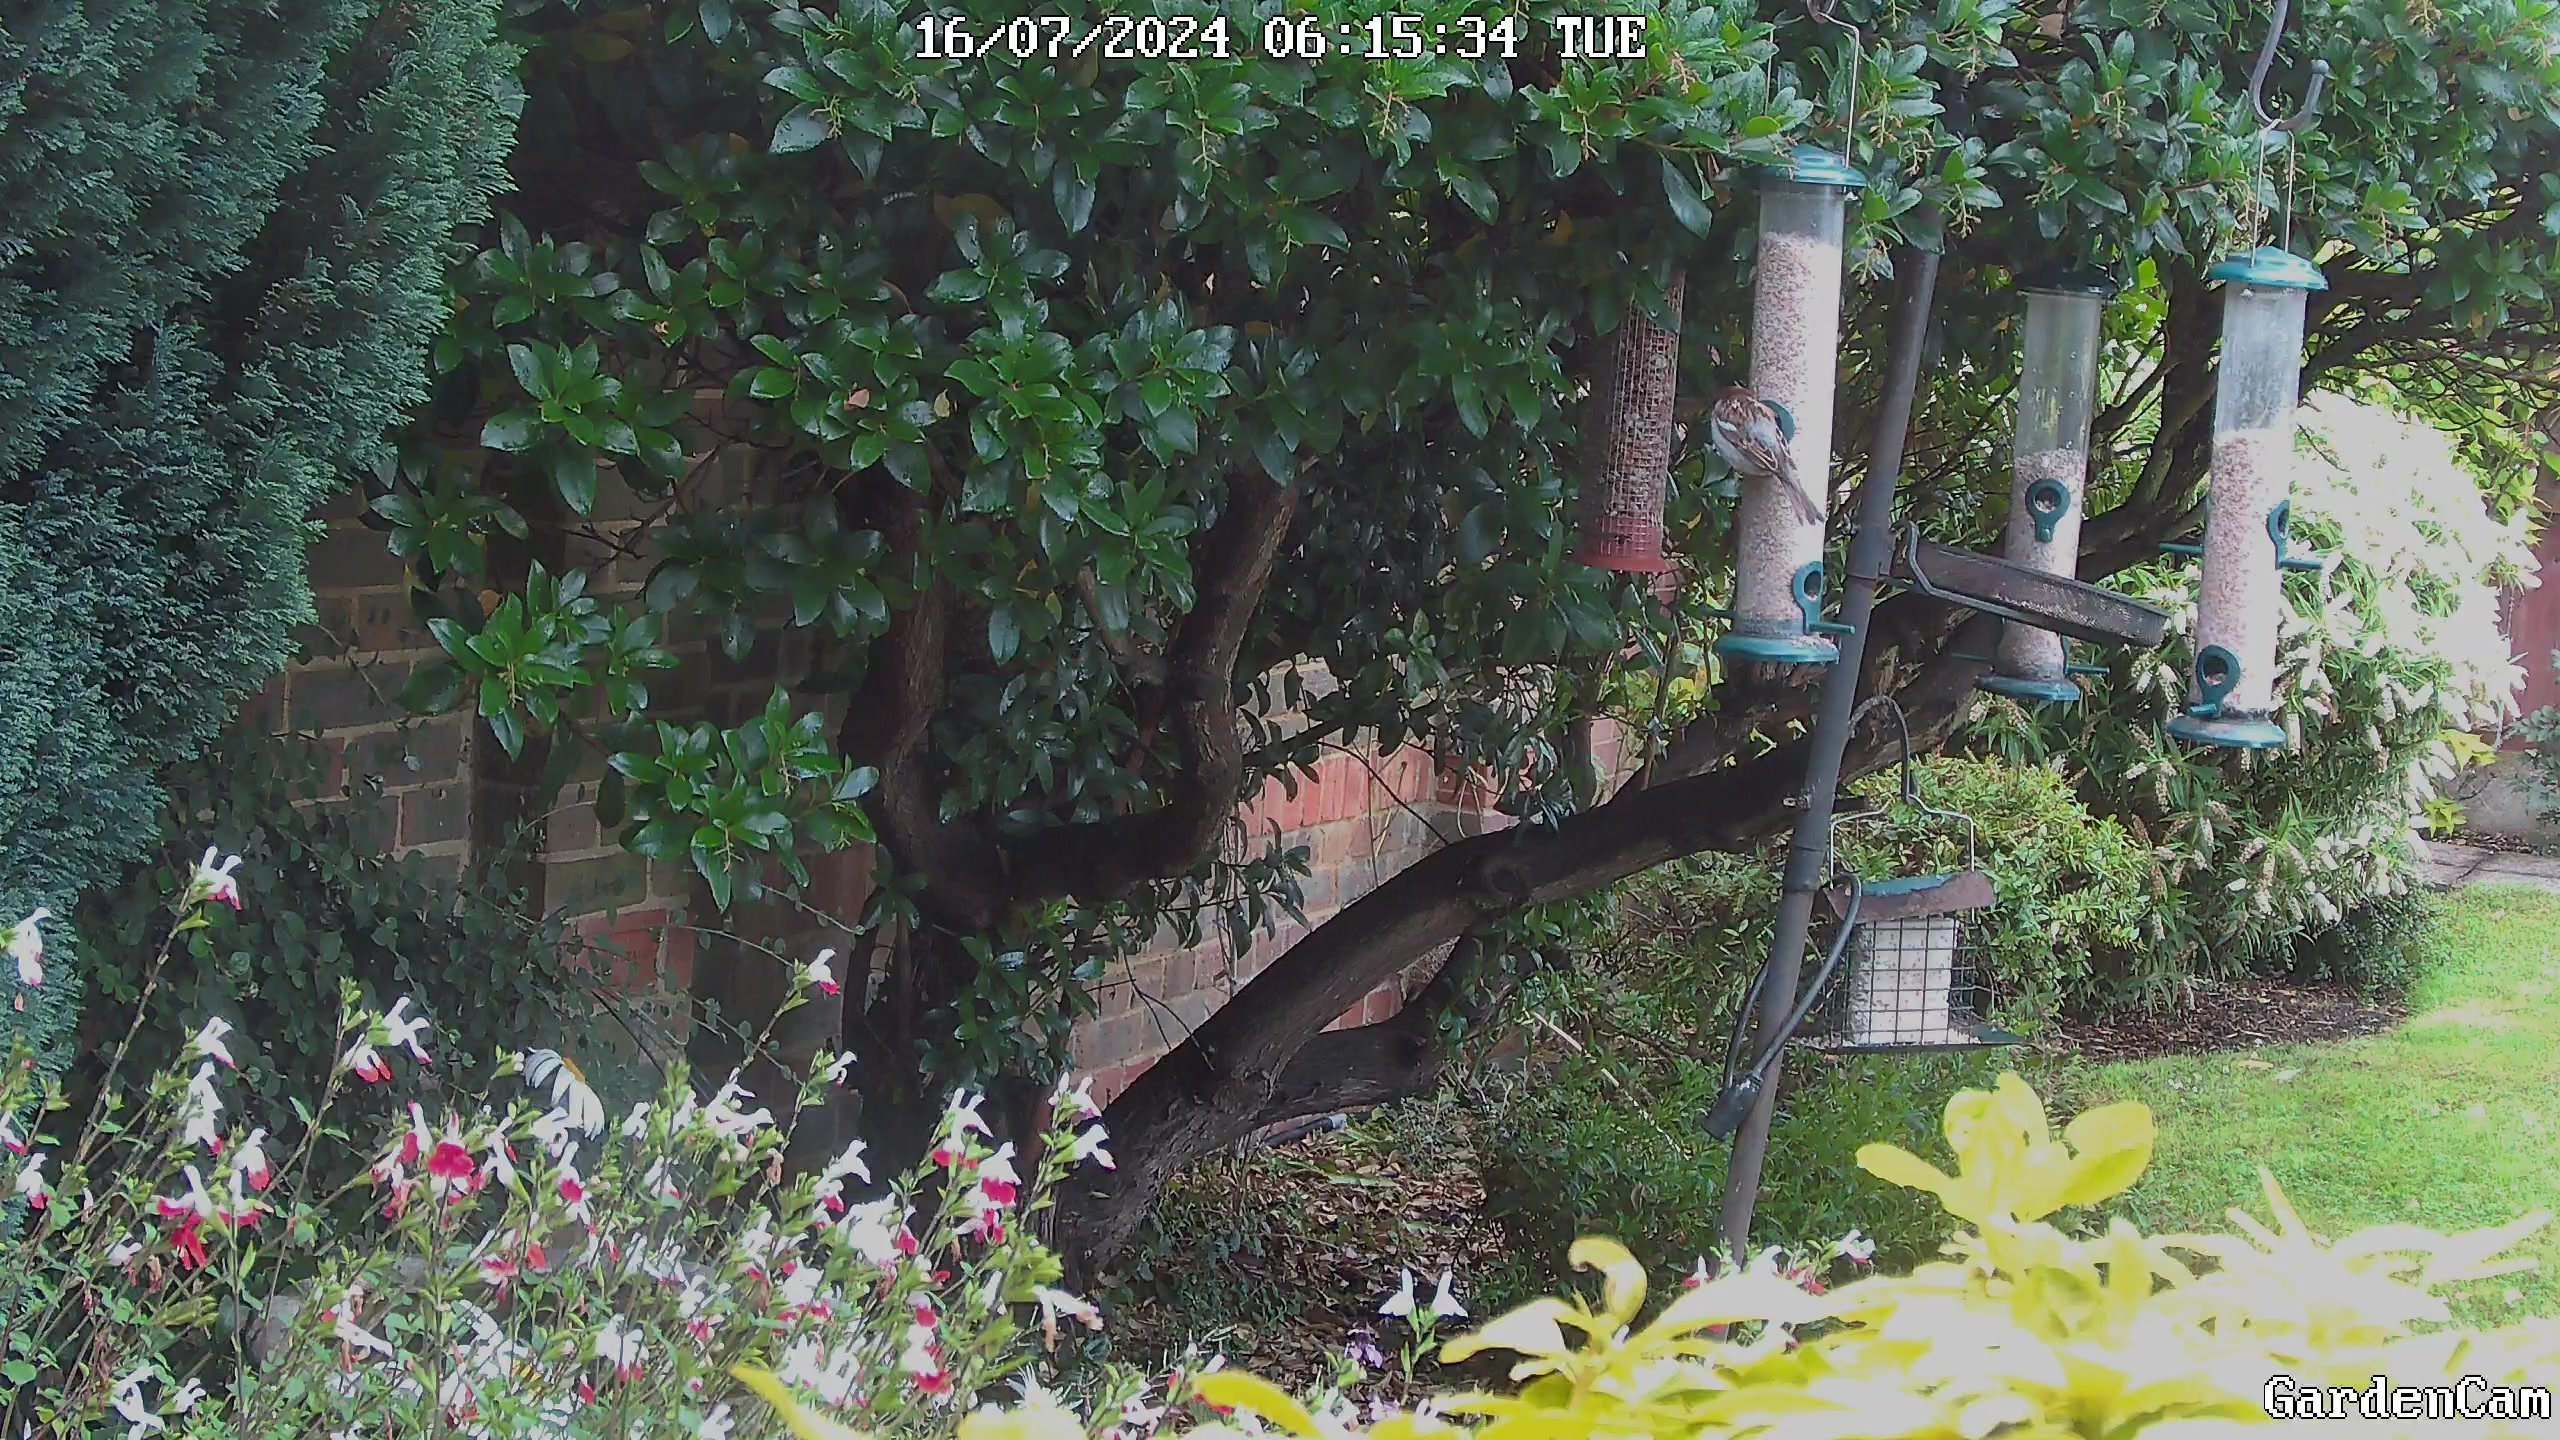House_Sparrow: (1677, 362, 1848, 554)
